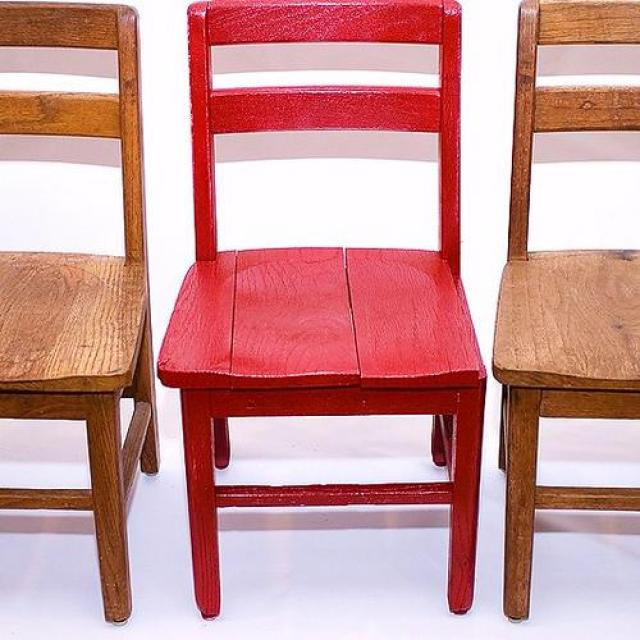chair: (155, 0, 486, 620)
